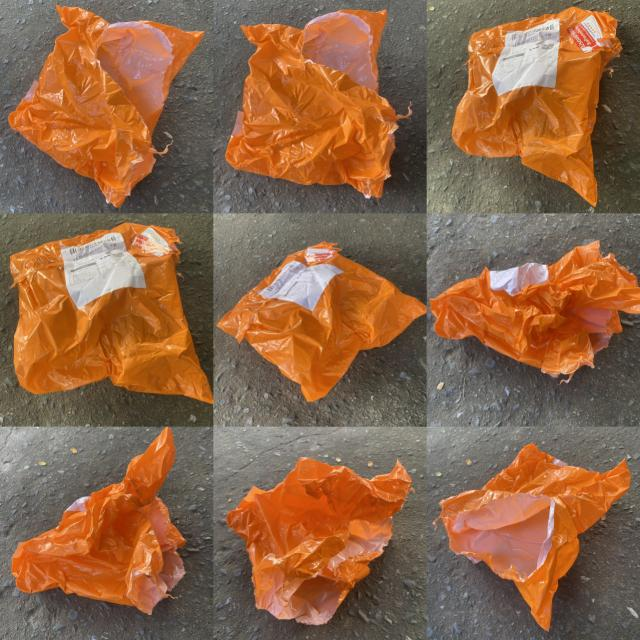Single-layer Plastic: (9, 5, 204, 206), (10, 222, 212, 402), (439, 444, 630, 630), (227, 10, 412, 198), (452, 8, 621, 206), (218, 242, 426, 401), (11, 428, 186, 613), (226, 458, 411, 624), (430, 241, 640, 378)
